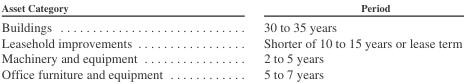table: (0, 0, 461, 80)
table column: (212, 0, 461, 80), (0, 0, 212, 80)
table column header: (0, 0, 461, 16)
table row: (0, 16, 461, 34), (0, 0, 461, 16), (0, 34, 461, 50), (0, 50, 461, 65), (0, 65, 461, 80)
